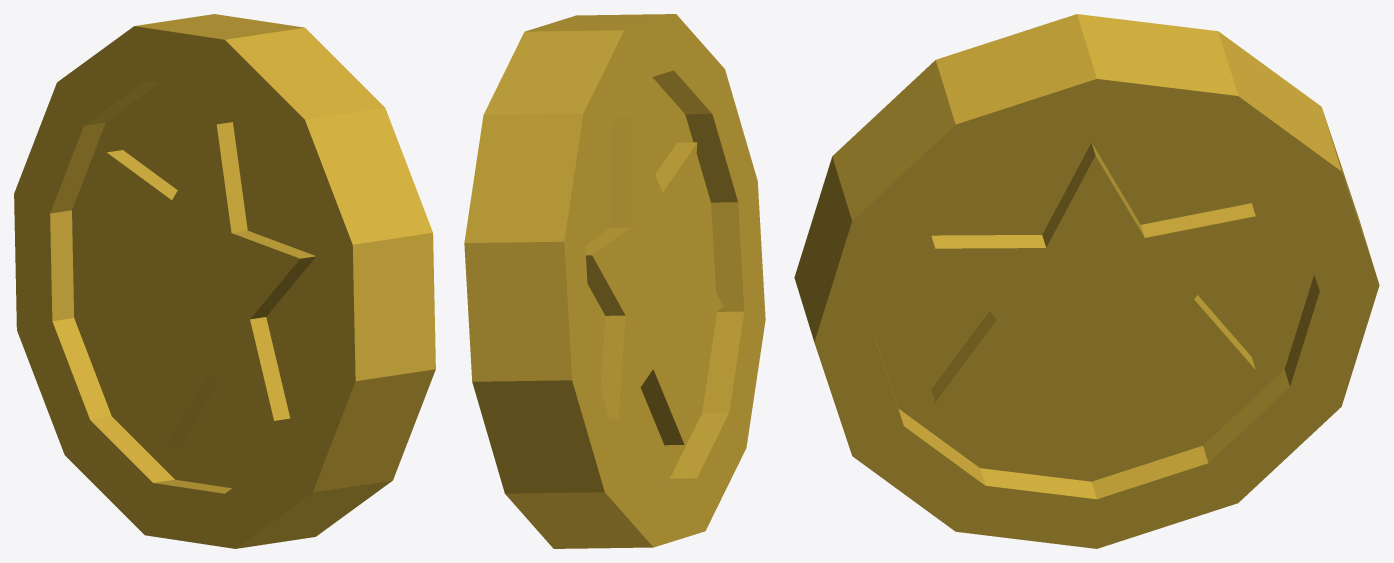
File: CoinGold.fbx
3 renders of one model, left to right at view 1: azimuth 30°, elevation 25°; view 2: azimuth 150°, elevation 25°; view 3: azimuth 270°, elevation 25°, orthographic. The views are drawn at different scales.
Visible parts, largest first — view 1: Cilindro; view 2: Cilindro; view 3: Cilindro.
Part boxes in pixels (box(x1,y1,x2,y2)): Cilindro: box(14, 14, 435, 548); Cilindro: box(464, 14, 765, 548); Cilindro: box(794, 14, 1379, 548).
Size of the model in its own units: 85.97 by 204 by 204.
